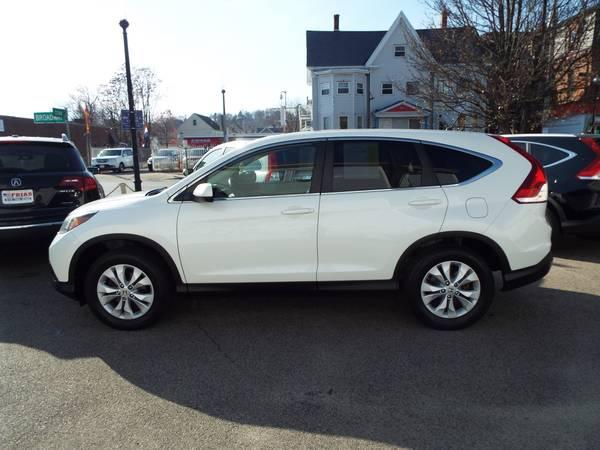Front_Bumper: (49, 232, 81, 292)
Front_Fender: (73, 181, 186, 287)
Front_Left_Door: (177, 193, 321, 282)
Front_Left_Window: (182, 136, 328, 202)
Left_Headlight: (59, 211, 98, 231)
Left_Taillight: (490, 134, 550, 202)
Rear_Bumper: (484, 195, 555, 287)
Rear_Fender: (424, 139, 530, 233)
Rear_Left_Door: (317, 185, 446, 280)
Rear_Left_Window: (320, 137, 444, 193)
Roof: (167, 125, 531, 195)
Wheel: (405, 247, 495, 327), (84, 251, 170, 333)
